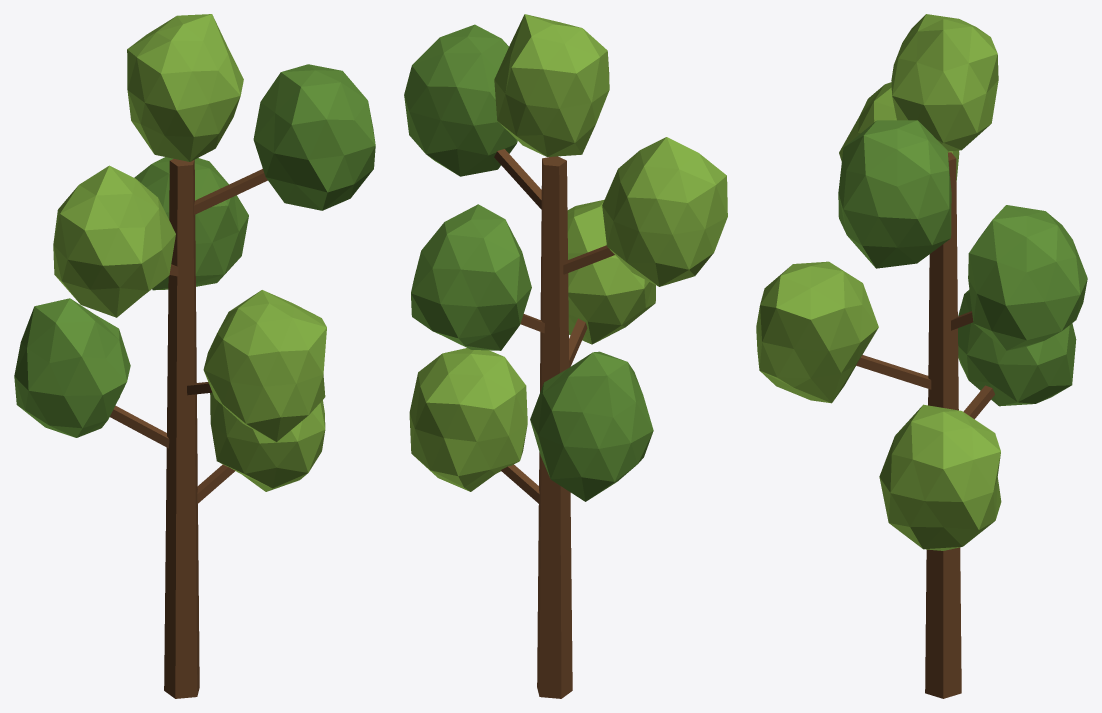
File: Tree_Sapling_A.fbx
3 renders of one model, left to right at view 1: azimuth 30°, elevation 25°; view 2: azimuth 150°, elevation 25°; view 3: azimuth 270°, elevation 25°, orthographic.
Visible parts, largest first — view 1: Tree_Sapling_A; view 2: Tree_Sapling_A; view 3: Tree_Sapling_A.
Part boxes in pixels (x1,y1,x2,y2): Tree_Sapling_A: (14,14,375,698); Tree_Sapling_A: (404,14,727,698); Tree_Sapling_A: (756,14,1087,698).
Size of the model in its own units: 0.928 by 1.93 by 0.8611.
